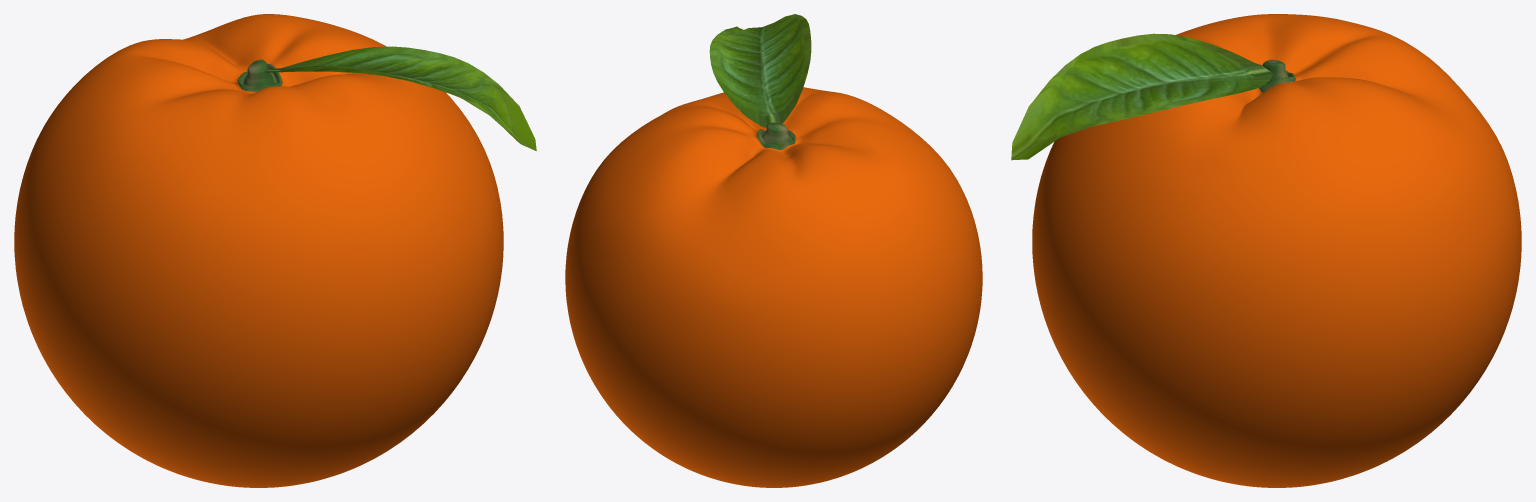
File: ORANGES.glb
3 views of the same model, side by side, from view 1: azimuth 30°, elevation 25°; view 2: azimuth 150°, elevation 25°; view 3: azimuth 270°, elevation 25° (orthographic). The views are drawn at different scales.
Parts seen in each view (by area): view 1: orange.029, gnodes.001; view 2: orange.029, gnodes.001; view 3: orange.029, gnodes.001.
Boxes of the visible parts, box(x1,y1,x2,y2) form: orange.029: box(14, 14, 503, 487); gnodes.001: box(264, 46, 536, 150); orange.029: box(565, 87, 982, 487); gnodes.001: box(709, 14, 811, 128); orange.029: box(1032, 14, 1521, 487); gnodes.001: box(1011, 33, 1273, 160).
Bounding box in the file's own units: 0.078 × 0.0787 × 0.0813.
Materials: 2 (2 with a texture image).
